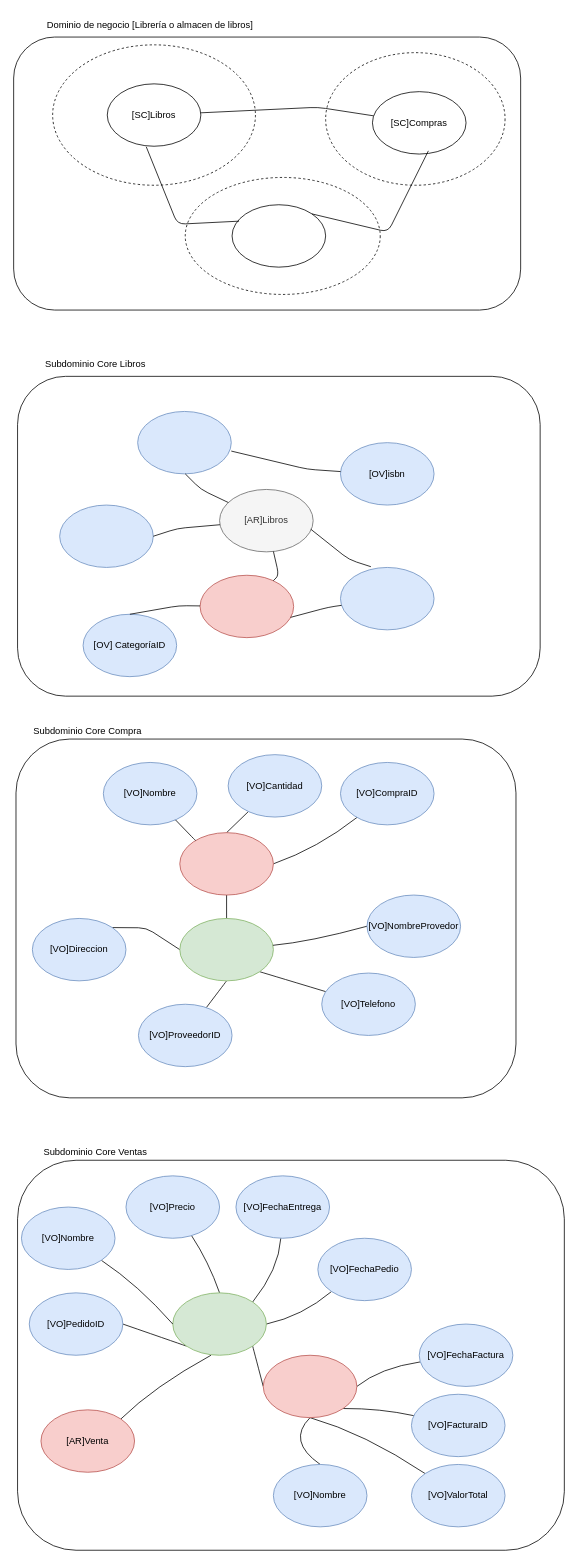
The diagram is 578 pixels wide and 1564 high, and some of its shapes have lost their labels. The centre of each missing label's shape, as x and y in pixels:
[AR]Compra: the point at 226,863
[AR]Factura: the point at 309,1386
[E] Categoría: the point at 246,606
[E]Pedido: the point at 219,1323
[E]Proveedor: the point at 226,949
[OV]Cantidad: the point at 106,535
[OV]Precio: the point at 184,442
[OV]Titulo: the point at 387,598
[SC]Ventas: the point at 278,235
